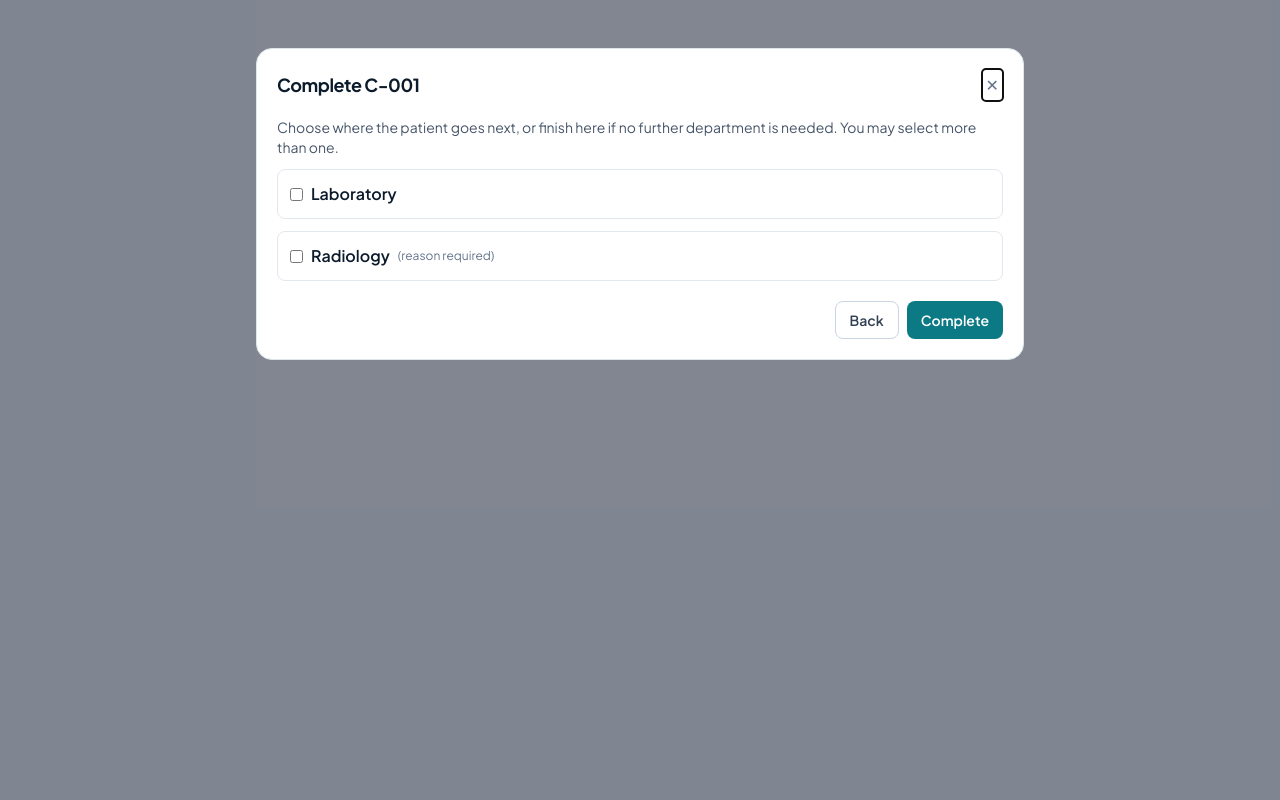
CompleteModal › lists only allowed onward departments and enforces required reasons
Later steps or results of the test are not shown.
Expected: the checkbox labelled "Laboratory" is shown, x1=290 y1=188 x2=303 y2=200
Click the checkbox labelled "Radiology (reason required)" at (296, 256), box x1=290 y1=250 x2=303 y2=262
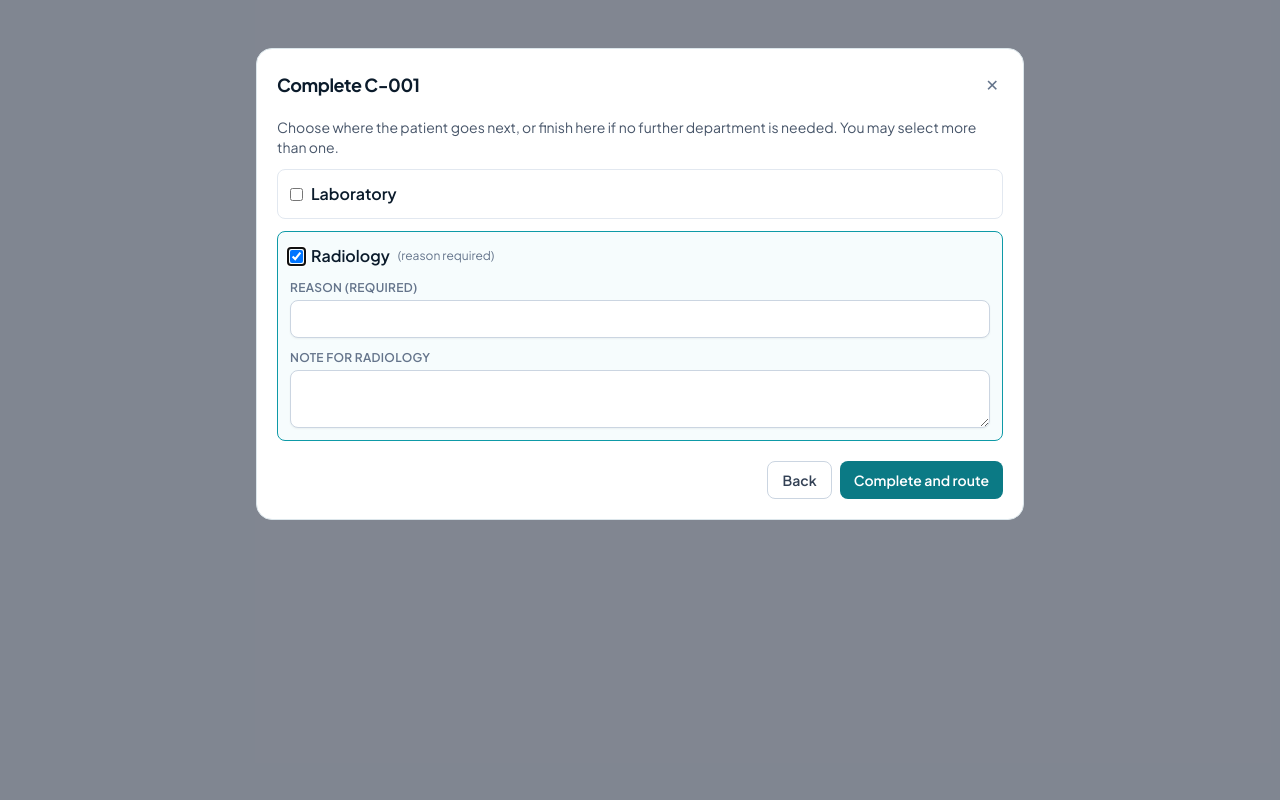
Click the button "Complete and route" at (921, 480), box x1=840 y1=461 x2=1003 y2=499
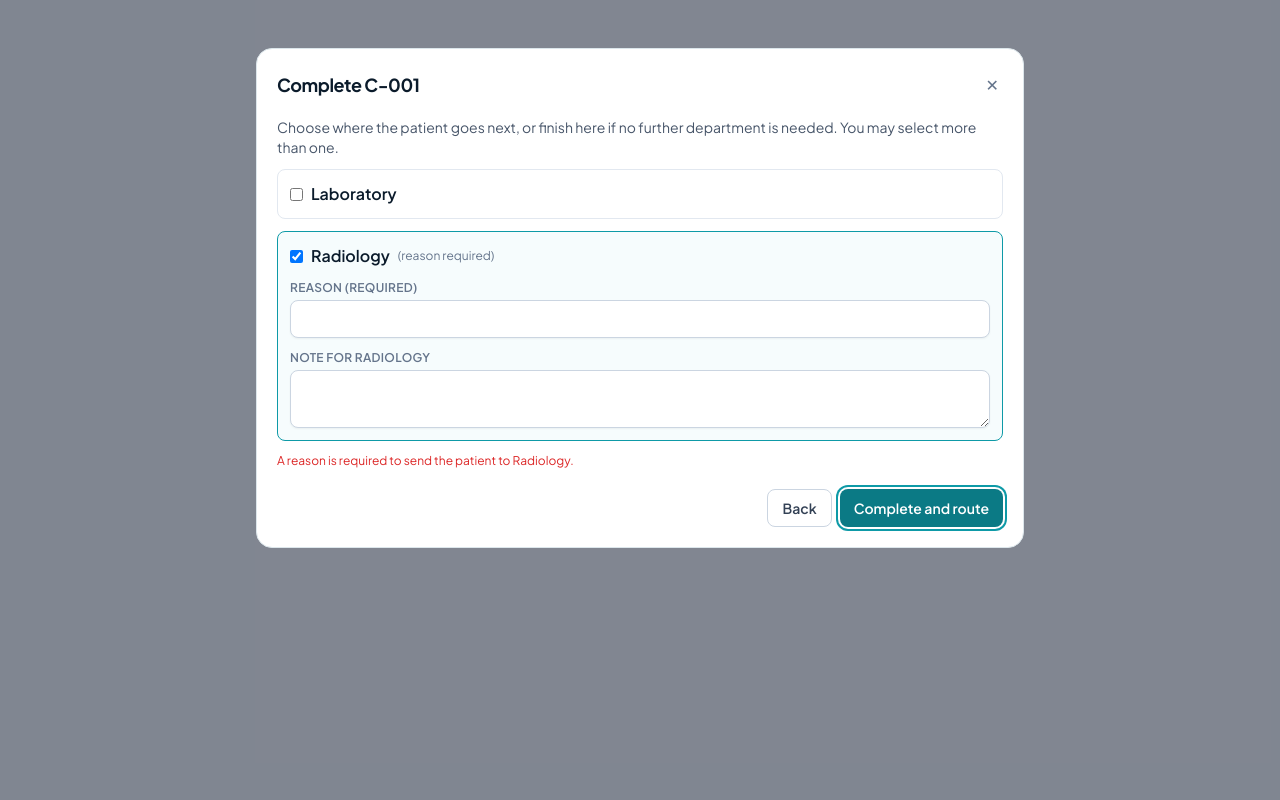
Now the text "A reason is required to send the patient to Radiology." is shown, box x1=277 y1=453 x2=574 y2=468
